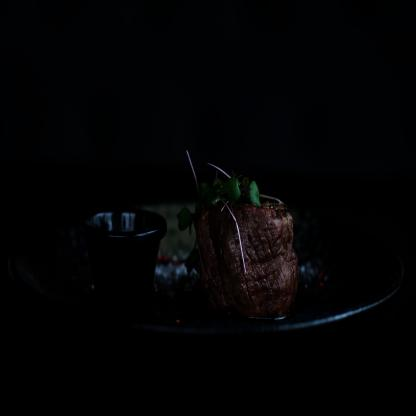Carne: (189, 184, 303, 323)
